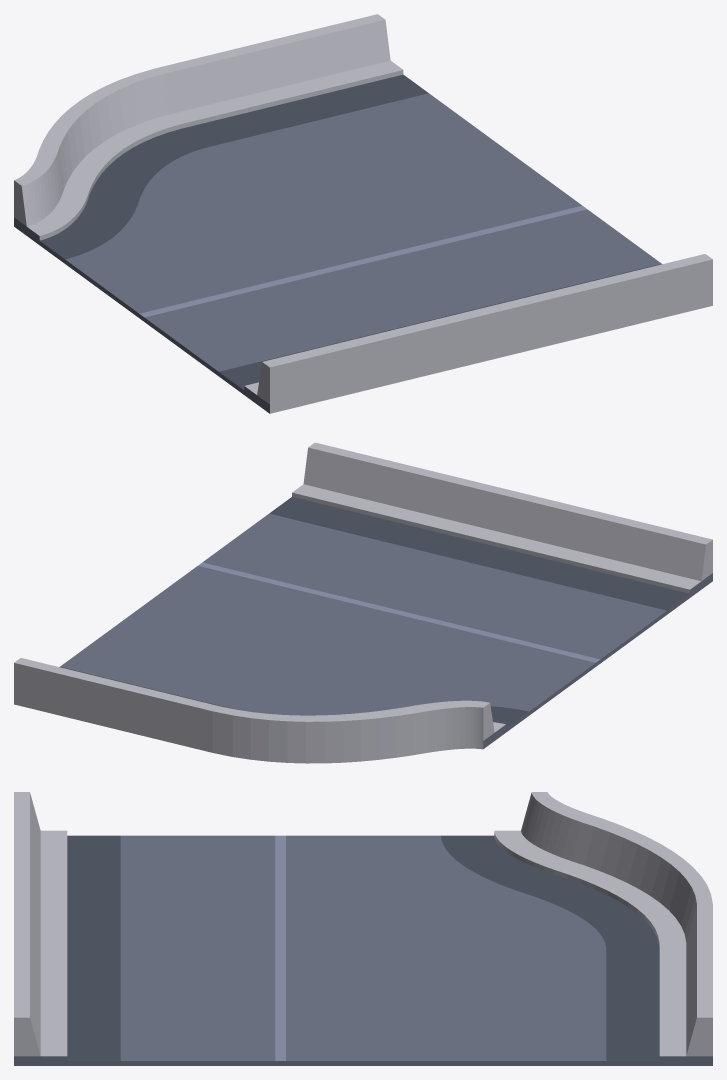
File: road_sideExit.glb
The picture shows the model from 3 angles, top to bottom: view 1: azimuth 30°, elevation 25°; view 2: azimuth 150°, elevation 25°; view 3: azimuth 270°, elevation 25°; orthographic projection. The views are drawn at different scales.
Visible parts, largest first — view 1: road_sideExit_b34f09, road_sideExit_e5bd86, road_sideExit_15b0c7, road_sideExit_d8bb5f, road_sideExit_2f1893; view 2: road_sideExit_b34f09, road_sideExit_e5bd86, road_sideExit_d8bb5f, road_sideExit_15b0c7, road_sideExit_2f1893; view 3: road_sideExit_b34f09, road_sideExit_15b0c7, road_sideExit_e5bd86, road_sideExit_d8bb5f, road_sideExit_2f1893.
Boxes of the visible parts, box(x1,y1,x2,y2) form: road_sideExit_b34f09: box(14, 93, 661, 413); road_sideExit_e5bd86: box(14, 14, 712, 404); road_sideExit_15b0c7: box(40, 74, 661, 389); road_sideExit_d8bb5f: box(27, 60, 712, 413); road_sideExit_2f1893: box(139, 205, 587, 317); road_sideExit_b34f09: box(60, 513, 712, 748); road_sideExit_e5bd86: box(14, 442, 712, 755); road_sideExit_d8bb5f: box(14, 484, 700, 763); road_sideExit_15b0c7: box(59, 497, 689, 727); road_sideExit_2f1893: box(198, 562, 599, 662); road_sideExit_b34f09: box(14, 835, 712, 1065); road_sideExit_15b0c7: box(67, 835, 659, 1060); road_sideExit_e5bd86: box(14, 792, 712, 1056); road_sideExit_d8bb5f: box(40, 830, 686, 1056); road_sideExit_2f1893: box(275, 835, 285, 1060).
Size of the model in its own units: 1 by 0.1 by 1.31.
